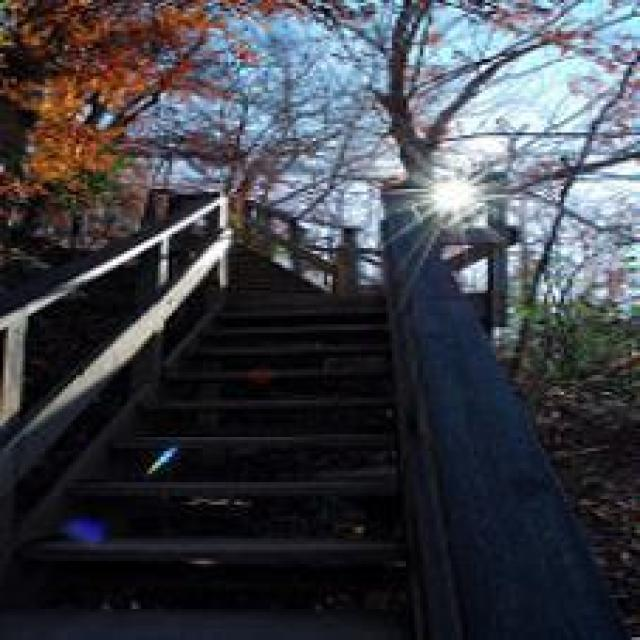upstair: (49, 286, 413, 568)
